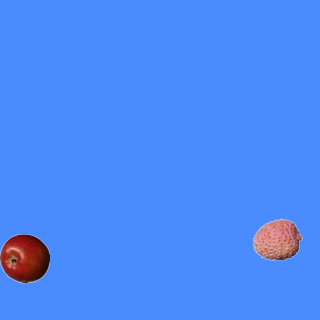Apple Braeburn: (0, 233, 49, 283)
Lychee: (252, 214, 302, 264)
